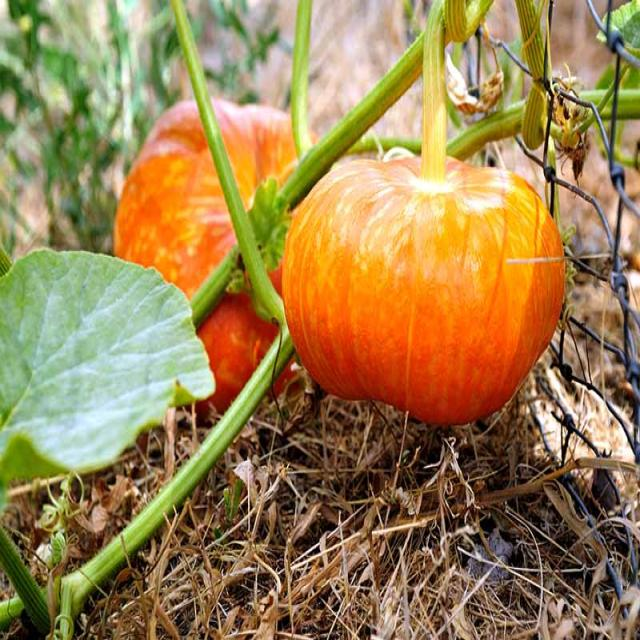pumpkin: (282, 0, 565, 423), (114, 101, 236, 295), (199, 293, 276, 412), (213, 99, 296, 207)
